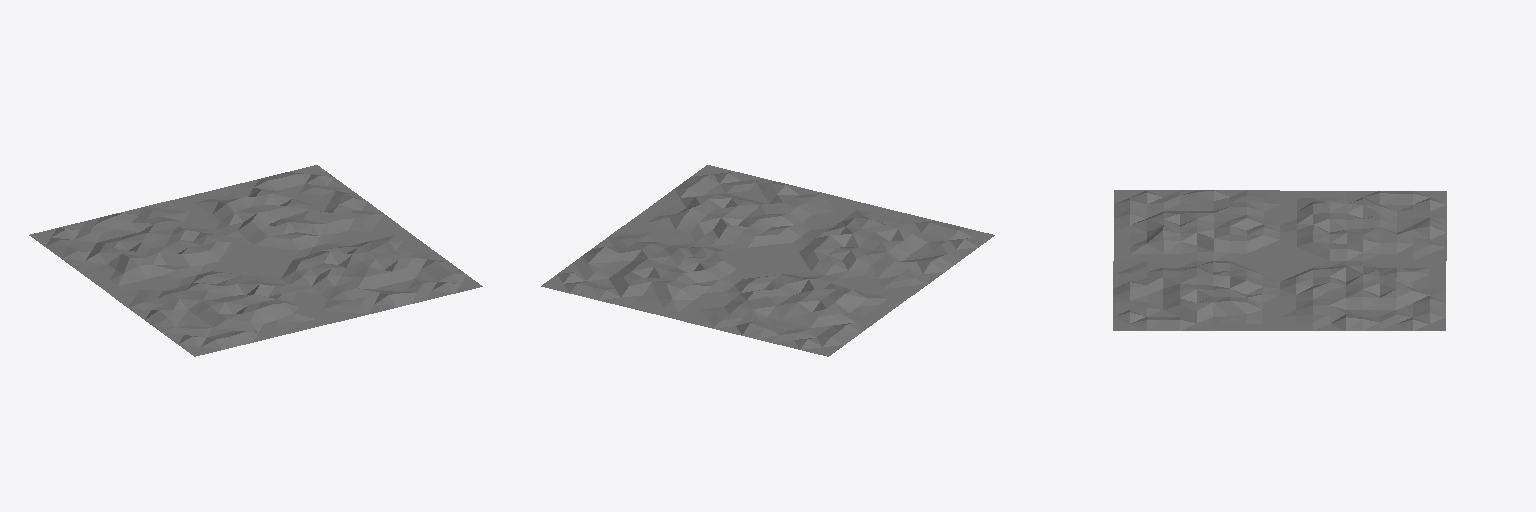
The model's file is Terrain01.obj.
3 views of the same model, side by side, from view 1: azimuth 30°, elevation 25°; view 2: azimuth 150°, elevation 25°; view 3: azimuth 270°, elevation 25° (orthographic).
Visible parts, largest first — view 1: TerrainTri; view 2: TerrainTri; view 3: TerrainTri.
Boxes of the visible parts, box(x1,y1,x2,y2) form: TerrainTri: box(29, 165, 482, 356); TerrainTri: box(541, 165, 994, 356); TerrainTri: box(1113, 190, 1446, 330).
Bounding box in the file's own units: 1354 × 43.16 × 1354.